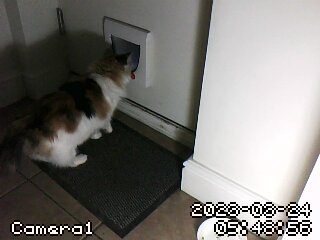clara: (23, 39, 153, 167)
